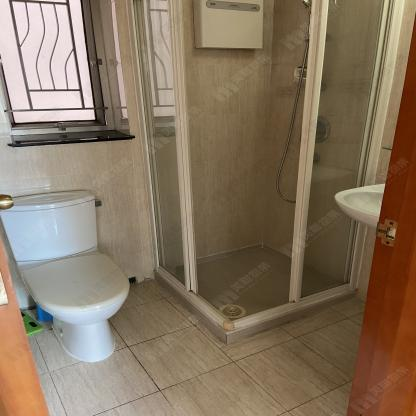Toilet: (0, 190, 131, 362)
Toilet Sink: (334, 183, 385, 233)
Water Cubicle: (130, 1, 407, 346)
Water Heater: (191, 2, 264, 51)
